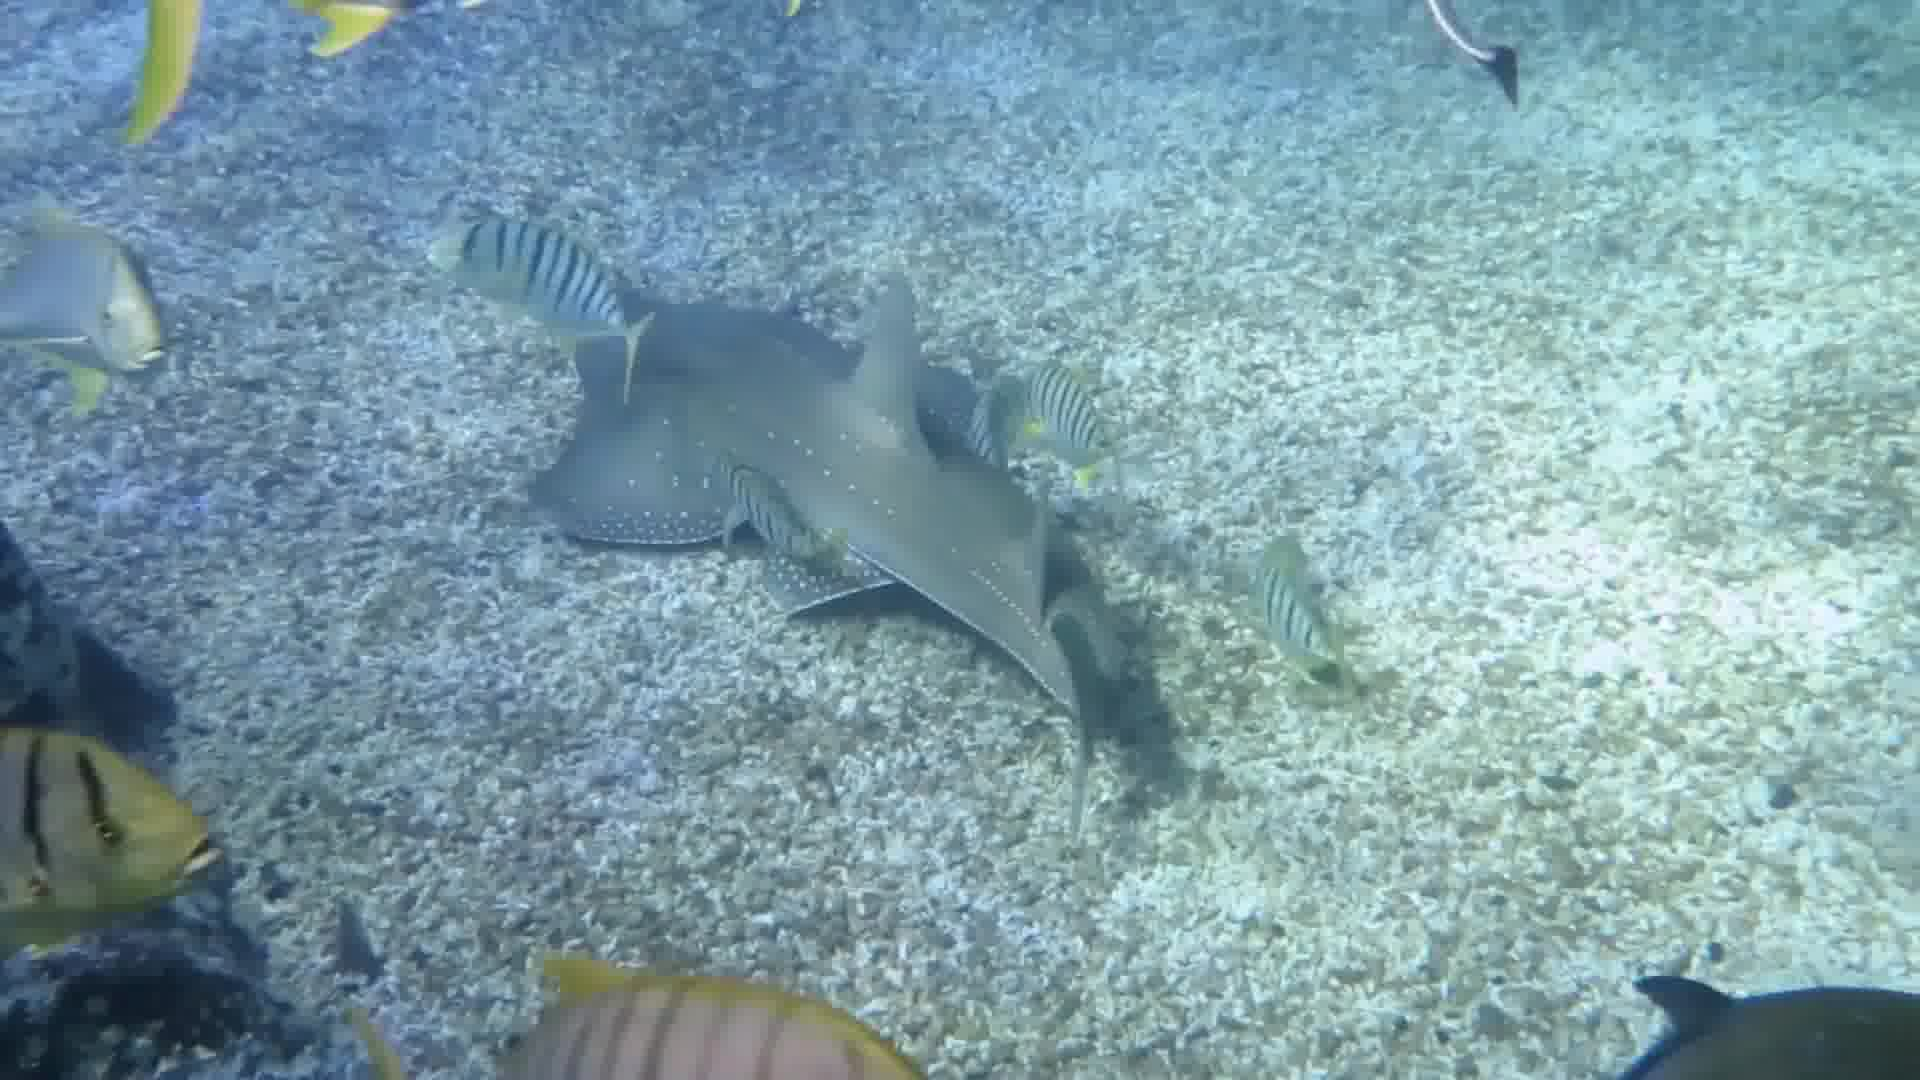Rhychobatus djiddensis: (439, 225, 1323, 852)
